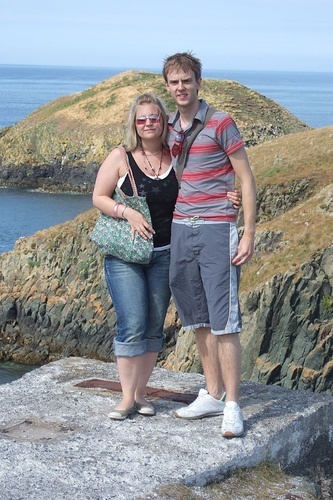head: (166, 50, 201, 109), (135, 94, 165, 141)
person: (84, 81, 181, 433), (168, 47, 255, 437)
